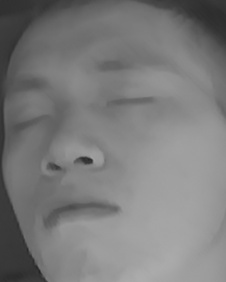blink: (105, 85, 159, 120), (7, 105, 52, 135)
mouth: (32, 187, 121, 235)
